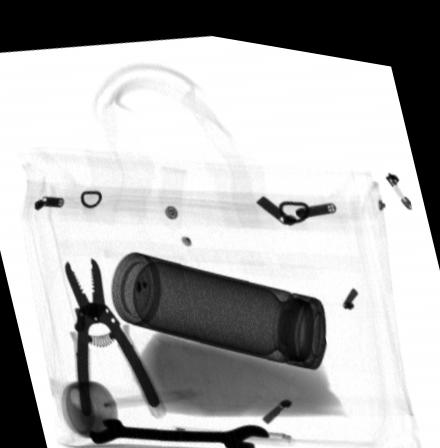Pliers: (63, 254, 168, 428)
Wrench: (87, 414, 270, 444)
